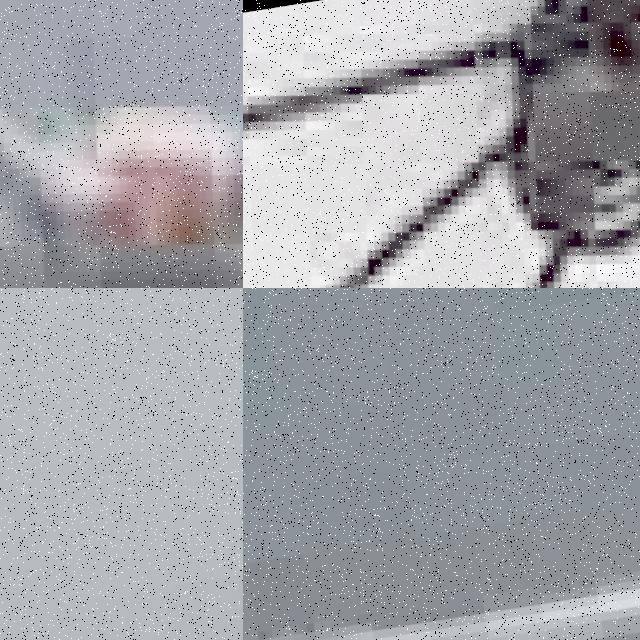drone: (243, 0, 640, 288), (0, 0, 243, 288)
